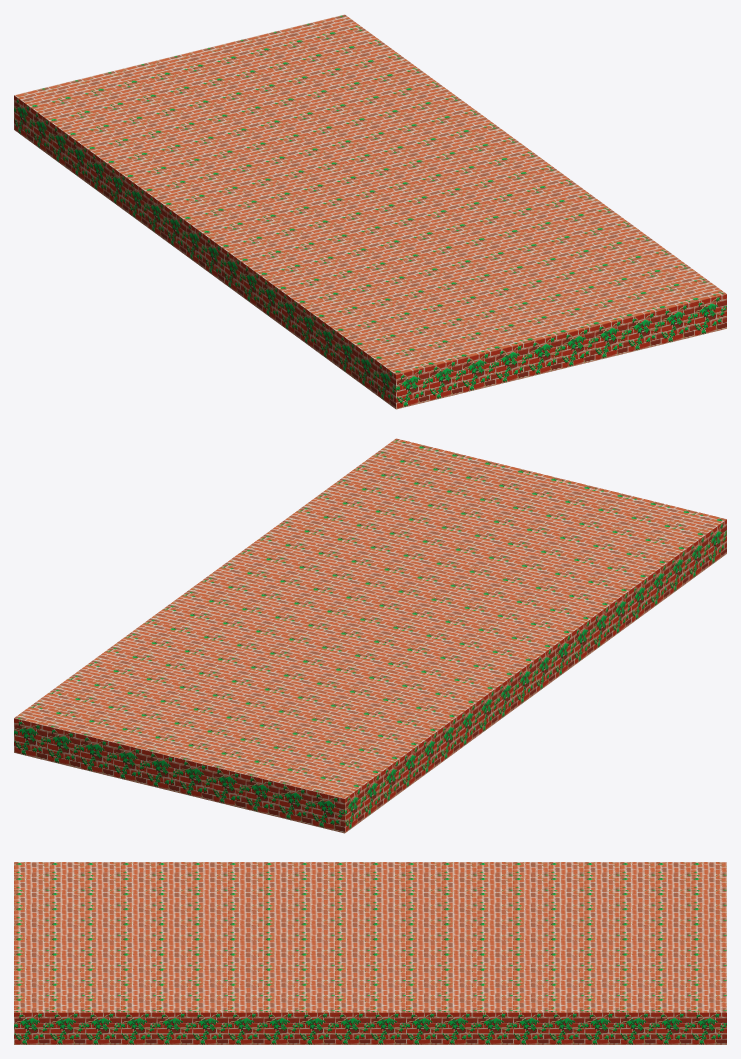
Rendered from StageGoal.fbx.
The picture shows the model from 3 angles, top to bottom: view 1: azimuth 30°, elevation 25°; view 2: azimuth 150°, elevation 25°; view 3: azimuth 270°, elevation 25°; orthographic projection. The views are drawn at different scales.
Parts seen in each view (by area): view 1: Terrain; view 2: Terrain; view 3: Terrain.
Part boxes in pixels (<box>): Terrain: <box>14,14,726,409</box>; Terrain: <box>14,438,726,833</box>; Terrain: <box>14,862,726,1044</box>.
Size of the model in its own units: 194 by 19.39 by 388.
1 material, 1 textured.
